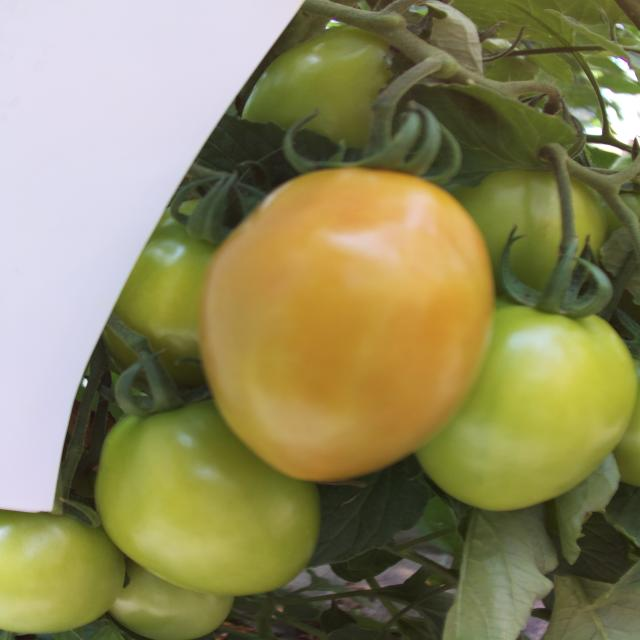sari: (223, 155, 472, 494)
